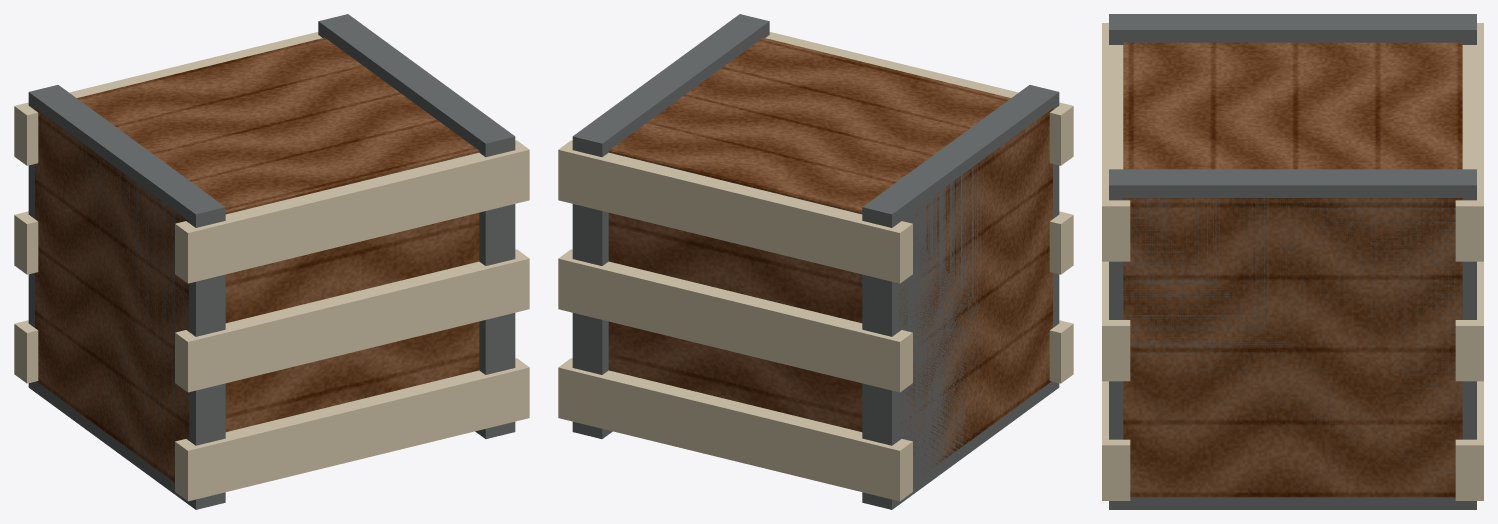
Rendered from trail_crate.gltf.
The picture shows the model from 3 angles, left to right: view 1: azimuth 30°, elevation 25°; view 2: azimuth 150°, elevation 25°; view 3: azimuth 270°, elevation 25°; orthographic projection. The views are drawn at different scales.
Visible parts, largest first — view 1: CrateCore, BackSlat_03, BackSlat_02, BackSlat, Band, Band_02, FrontSlat_03, FrontSlat_02, FrontSlat; view 2: CrateCore, Band, FrontSlat_03, FrontSlat_02, FrontSlat, Band_02, BackSlat_03, BackSlat_02, BackSlat; view 3: CrateCore, Band_02, Band, FrontSlat_03, BackSlat_03, FrontSlat_02, BackSlat_02, FrontSlat, BackSlat.
Boxes of the visible parts, <box> form: CrateCore: <box>35,37,479,482</box>; BackSlat_03: <box>175,140,529,283</box>; BackSlat_02: <box>175,249,529,392</box>; BackSlat: <box>175,358,529,501</box>; Band: <box>28,85,225,509</box>; Band_02: <box>318,14,515,438</box>; FrontSlat_03: <box>14,32,322,165</box>; FrontSlat_02: <box>14,211,38,274</box>; FrontSlat: <box>14,320,38,383</box>; CrateCore: <box>608,37,1052,476</box>; Band: <box>862,85,1059,509</box>; FrontSlat_03: <box>558,140,912,283</box>; FrontSlat_02: <box>558,249,912,392</box>; FrontSlat: <box>558,358,912,501</box>; Band_02: <box>572,14,769,438</box>; BackSlat_03: <box>765,32,1073,165</box>; BackSlat_02: <box>1049,211,1073,274</box>; BackSlat: <box>1049,320,1073,383</box>; CrateCore: <box>1123,42,1462,497</box>; Band_02: <box>1109,169,1476,509</box>; Band: <box>1109,14,1476,44</box>; FrontSlat_03: <box>1455,23,1483,261</box>; BackSlat_03: <box>1102,23,1130,261</box>; FrontSlat_02: <box>1455,261,1483,381</box>; BackSlat_02: <box>1102,261,1130,381</box>; FrontSlat: <box>1455,381,1483,500</box>; BackSlat: <box>1102,381,1130,500</box>.
Size of the model in its own units: 0.92 by 0.76 by 0.81.
3 materials, 1 textured.
